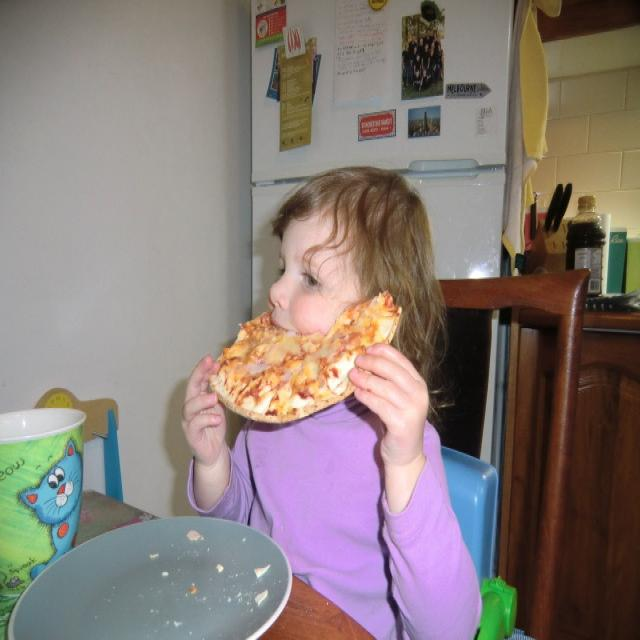chair: (440, 271, 593, 623), (36, 391, 122, 500)
dining table: (73, 492, 366, 630)
